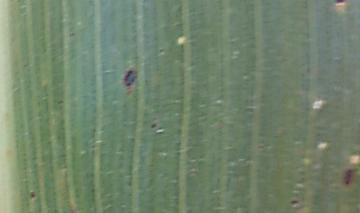tarspot: (119, 65, 140, 90), (341, 166, 353, 188), (148, 115, 159, 133), (287, 198, 301, 208), (28, 190, 38, 200), (332, 1, 347, 5)
